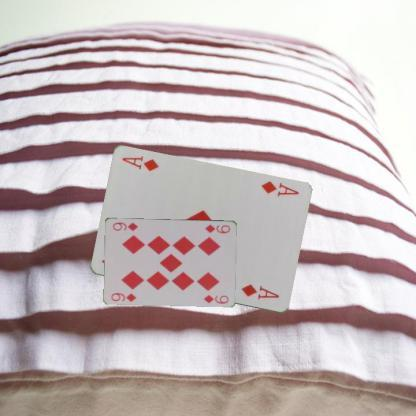9d: (203, 221, 232, 235), (108, 290, 138, 303)
Ad: (258, 178, 300, 198)
